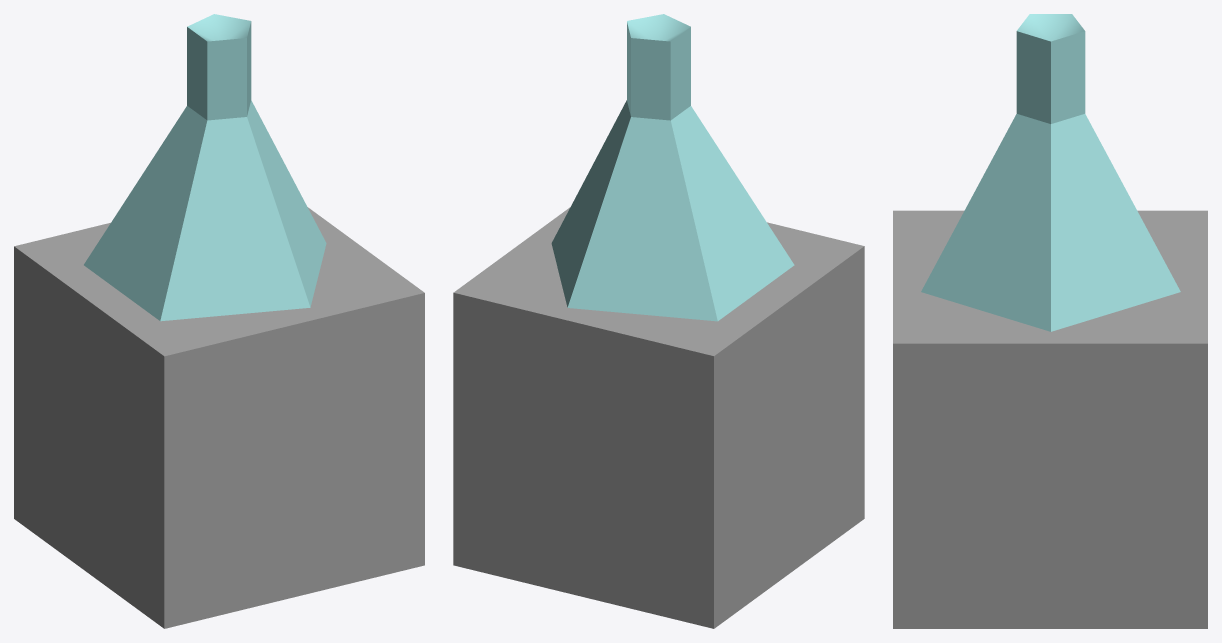
Rendered from LabFlask.fbx.
3 views of the same model, side by side, from view 1: azimuth 30°, elevation 25°; view 2: azimuth 150°, elevation 25°; view 3: azimuth 270°, elevation 25° (orthographic). The views are drawn at different scales.
Visible parts, largest first — view 1: pCube150, pCylinder23; view 2: pCube150, pCylinder23; view 3: pCube150, pCylinder23.
Part boxes in pixels (bbox=[...]): pCube150: bbox=[14, 207, 424, 628]; pCylinder23: bbox=[84, 14, 326, 321]; pCube150: bbox=[453, 207, 864, 628]; pCylinder23: bbox=[551, 14, 794, 321]; pCube150: bbox=[893, 210, 1207, 628]; pCylinder23: bbox=[921, 14, 1180, 331].
Bounding box in the file's own units: 1 × 1.88 × 1.
